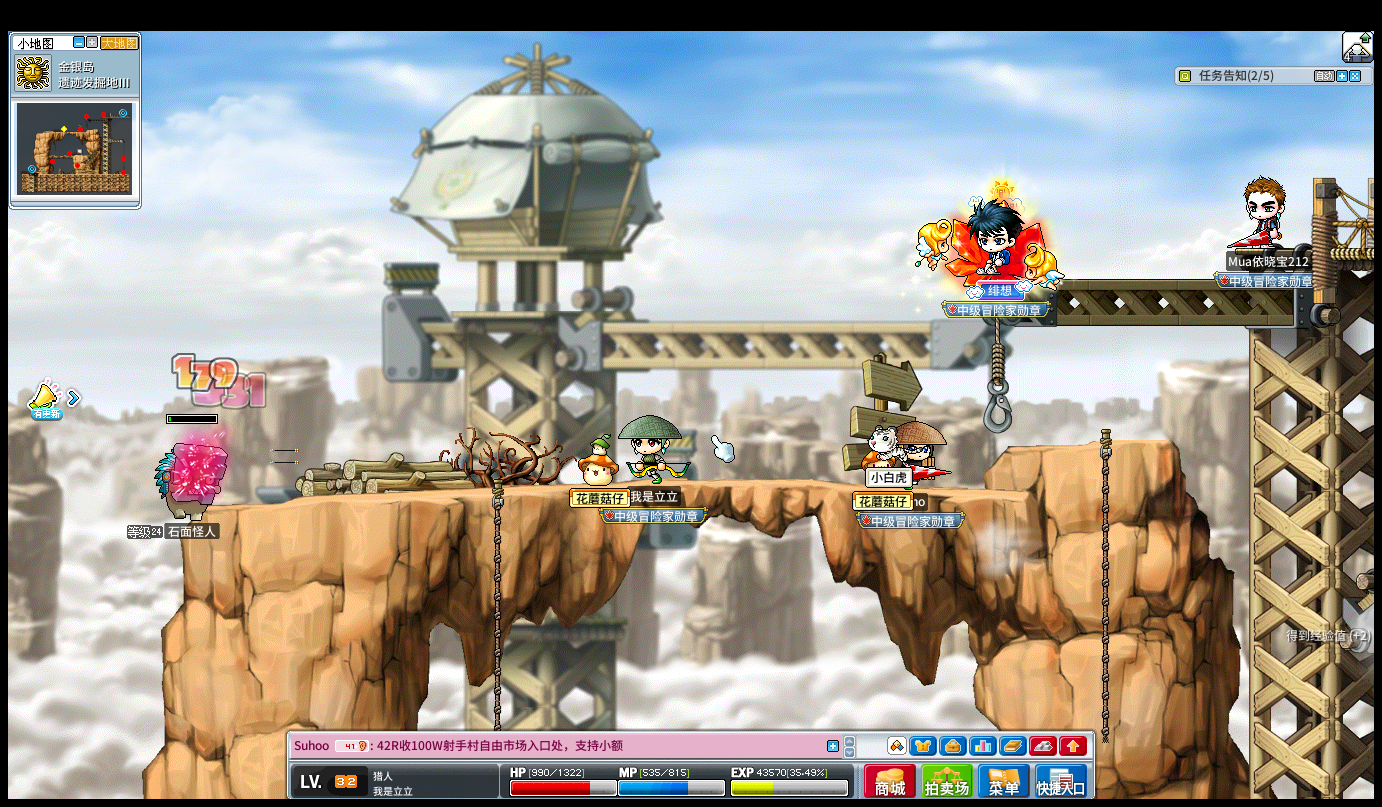floor: (163, 475, 1070, 503), (192, 476, 1085, 495), (1007, 436, 1173, 450), (1007, 433, 1173, 447)
monster: (153, 435, 228, 509)
rope: (1096, 425, 1112, 784), (1096, 426, 1111, 654), (490, 475, 502, 680)
